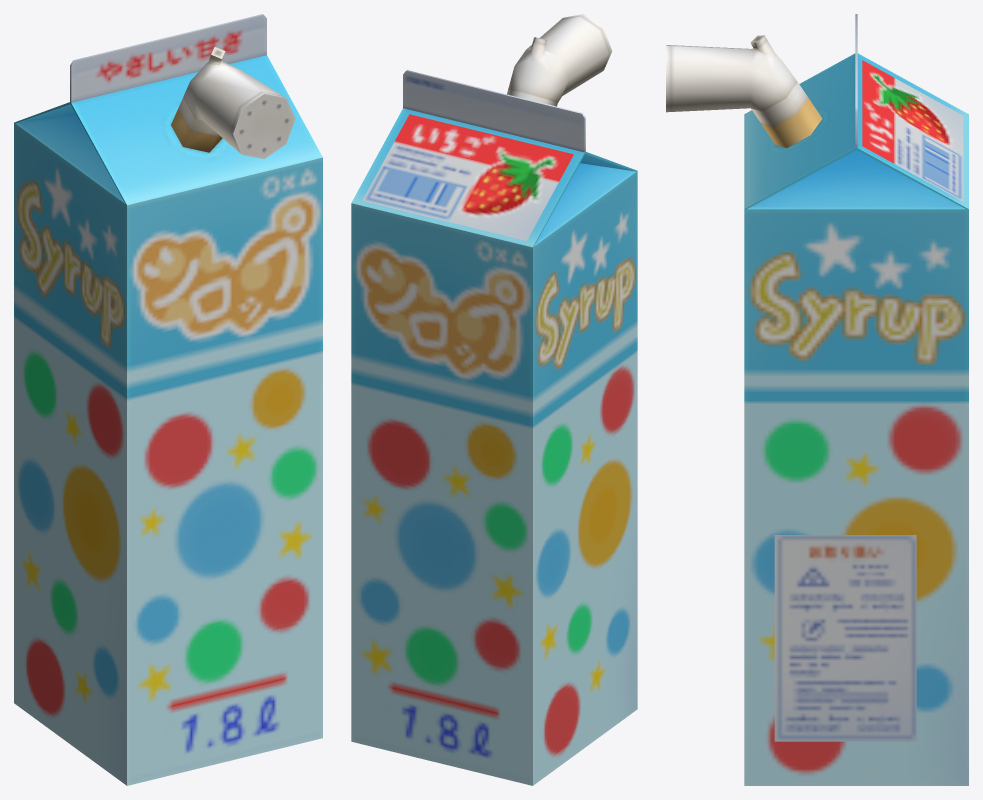
Rendered from jsf_Syrup_01b.fbx.
3 views of the same model, side by side, from view 1: azimuth 30°, elevation 25°; view 2: azimuth 150°, elevation 25°; view 3: azimuth 270°, elevation 25° (orthographic). The views are drawn at different scales.
Parts seen in each view (by area): view 1: jsf_Syrup_01b; view 2: jsf_Syrup_01b; view 3: jsf_Syrup_01b.
Boxes of the visible parts, x1,y1,x2,y2 form: jsf_Syrup_01b: [14, 14, 322, 785]; jsf_Syrup_01b: [351, 14, 637, 785]; jsf_Syrup_01b: [666, 14, 968, 785].
Bounding box in the file's own units: 9 × 31.08 × 12.13.
